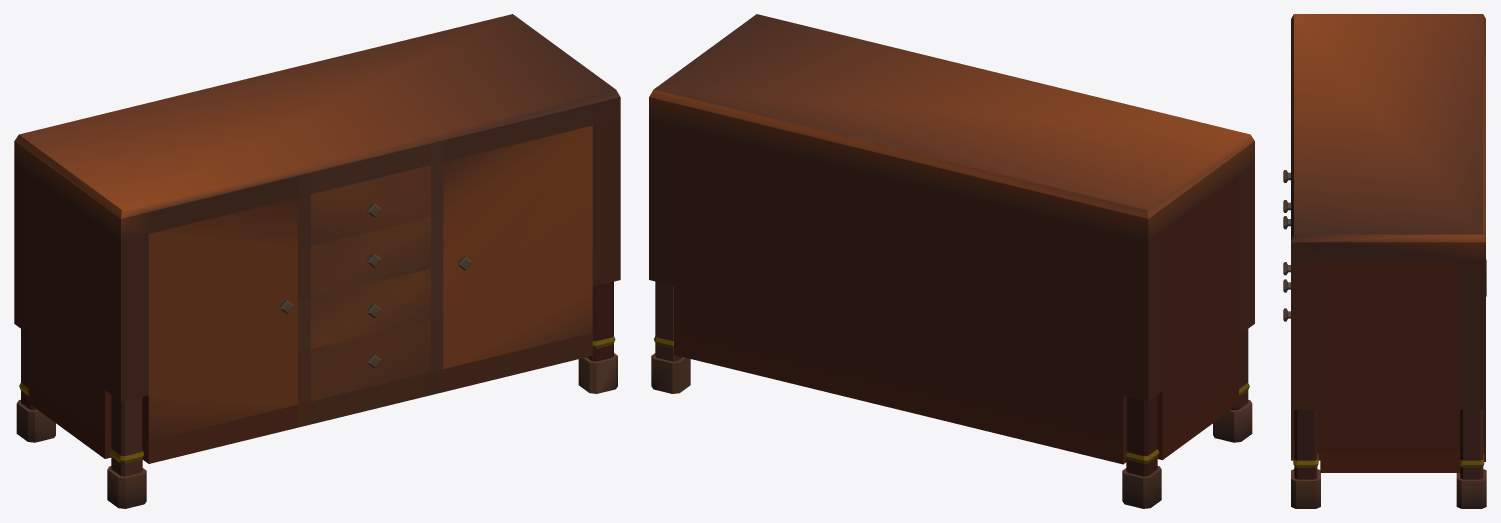
Rendered from Furniture_DresserC.fbx.
3 views of the same model, side by side, from view 1: azimuth 30°, elevation 25°; view 2: azimuth 150°, elevation 25°; view 3: azimuth 270°, elevation 25° (orthographic). The views are drawn at different scales.
Parts seen in each view (by area): view 1: Furniture_DresserC; view 2: Furniture_DresserC; view 3: Furniture_DresserC.
Boxes of the visible parts, x1,y1,x2,y2 form: Furniture_DresserC: (14,14,620,508); Furniture_DresserC: (649,14,1254,508); Furniture_DresserC: (1283,14,1486,508).
Size of the model in its own units: 180 by 103 by 69.25.
